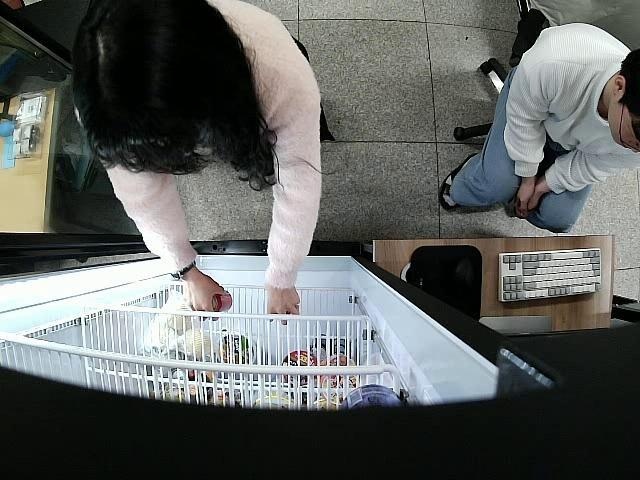11_cocaColaZero: (208, 289, 232, 314)
